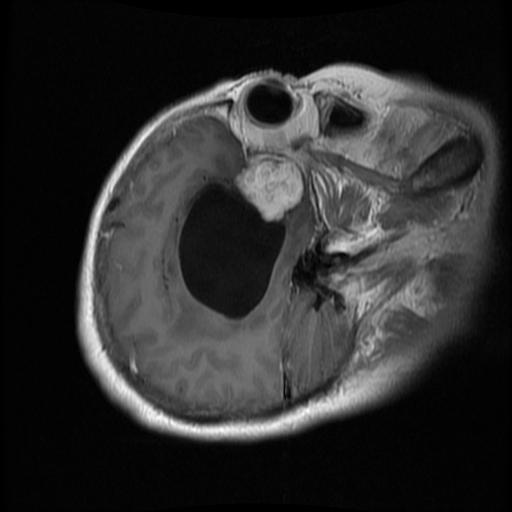meningioma: (240, 152, 303, 219)
